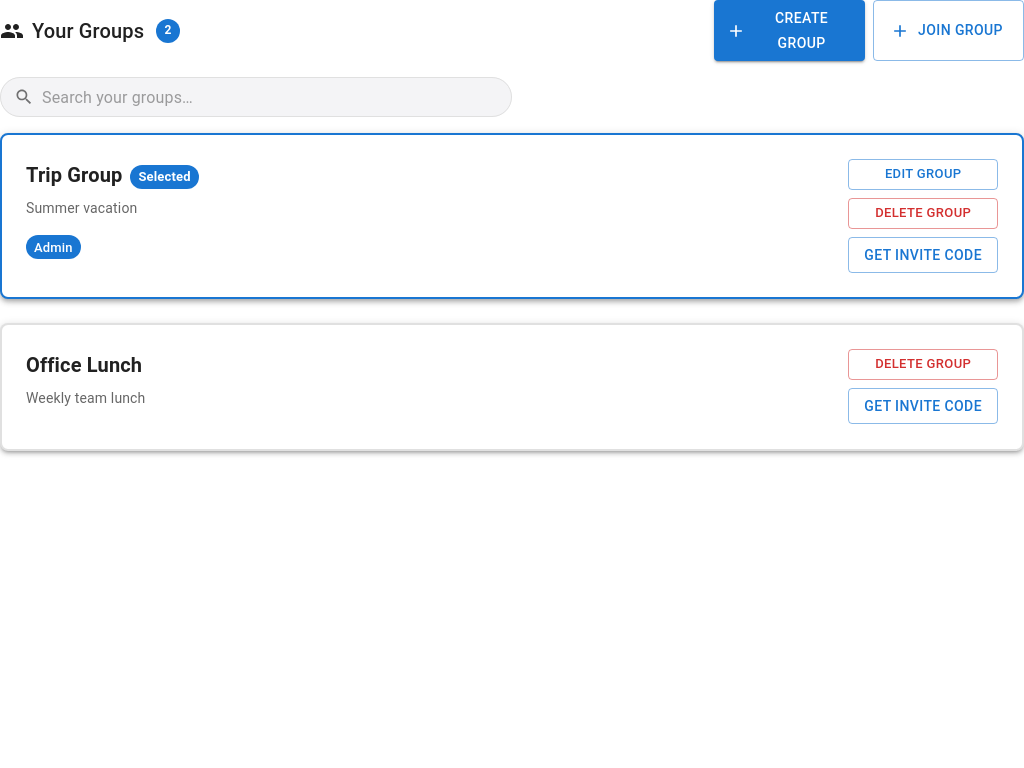
Test: GroupManagement - Core Functions › Invite Code Generation › should generate and display invite code
Note: Both cards have "Get Invite Code" buttons. Click the first one (Trip Group).
Click the button "Get Invite Code" in the row of "Admin". click: point(923, 255)
box: [848,236,998,273]
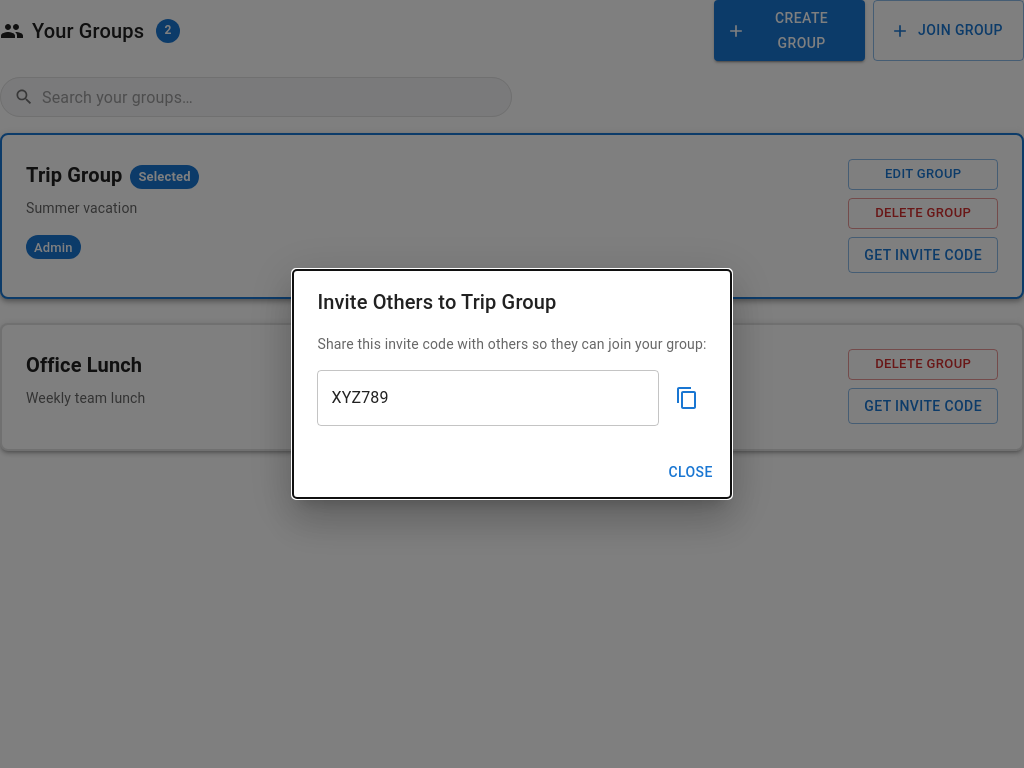
expect the field showing "XYZ789" is shown: met, box [318,370,659,426]
